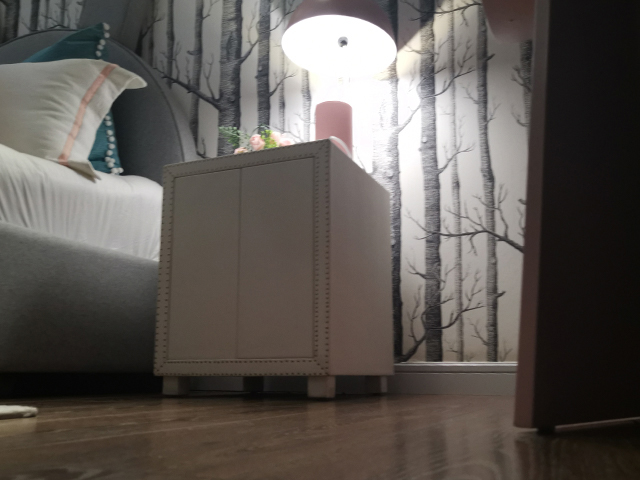bed: (1, 1, 197, 399)
cabinet: (151, 135, 396, 402)
